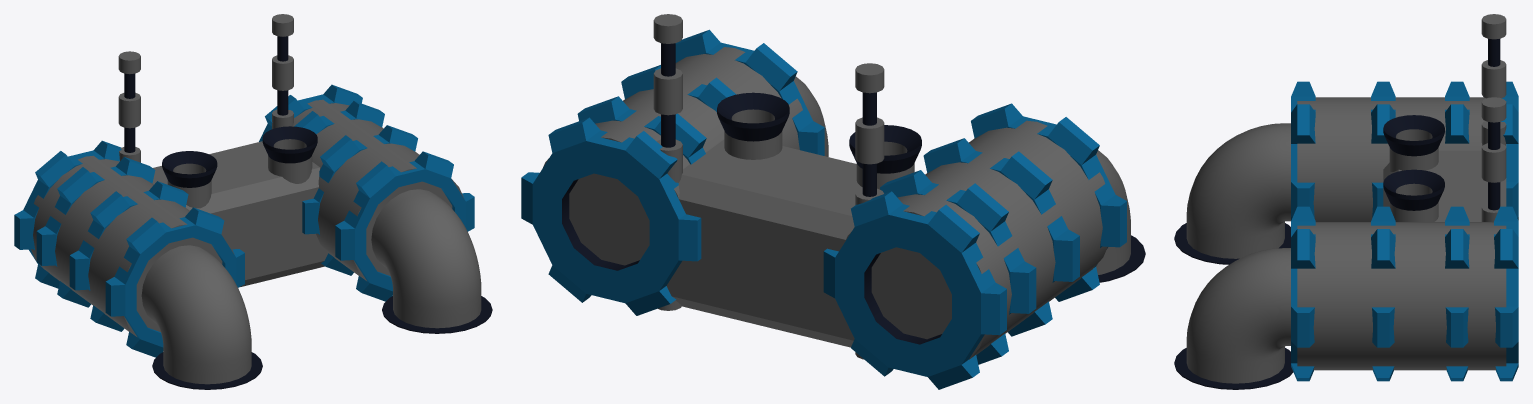
Rendered from Engines.fbx.
3 views of the same model, side by side, from view 1: azimuth 30°, elevation 25°; view 2: azimuth 150°, elevation 25°; view 3: azimuth 270°, elevation 25° (orthographic). The views are drawn at different scales.
Parts seen in each view (by area): view 1: cog_largeEdge (×8), pipe_largeBend (×2), cylinder (×2), block_bevel, pipe_largeExhaust (×2), tube_steel (×2), pipe_large (×2); view 2: cog_largeEdge (×8), block_bevel, cylinder (×2), tube_steel (×2), pipe_largeExhaust (×2), pipe_largeBend (×2), pipe_large; view 3: cylinder (×2), pipe_largeBend (×2), cog_largeEdge (×8), pipe_largeExhaust (×2), tube_steel (×2), pipe_large (×2), block_bevel.
Part boxes in pixels (x1,y1,x2,y2): cog_largeEdge (×8): [14, 84, 474, 357]; pipe_largeBend (×2): [141, 189, 481, 375]; cylinder (×2): [31, 99, 463, 336]; block_bevel: [152, 141, 328, 287]; pipe_largeExhaust (×2): [162, 126, 317, 208]; tube_steel (×2): [118, 14, 293, 162]; pipe_large (×2): [152, 296, 492, 389]; cog_largeEdge (×8): [521, 29, 1126, 389]; block_bevel: [620, 139, 903, 347]; cylinder (×2): [543, 47, 1107, 359]; tube_steel (×2): [653, 14, 884, 359]; pipe_largeExhaust (×2): [717, 92, 921, 189]; pipe_largeBend (×2): [794, 76, 1130, 263]; pipe_large: [1096, 235, 1145, 282]; cylinder (×2): [1297, 97, 1506, 370]; pipe_largeBend (×2): [1186, 123, 1290, 373]; cog_largeEdge (×8): [1291, 81, 1518, 381]; pipe_largeExhaust (×2): [1383, 115, 1444, 221]; tube_steel (×2): [1481, 14, 1506, 222]; pipe_large (×2): [1174, 223, 1293, 389]; block_bevel: [1383, 151, 1506, 221].
Size of the model in its own units: 37.99 by 22.24 by 28.
